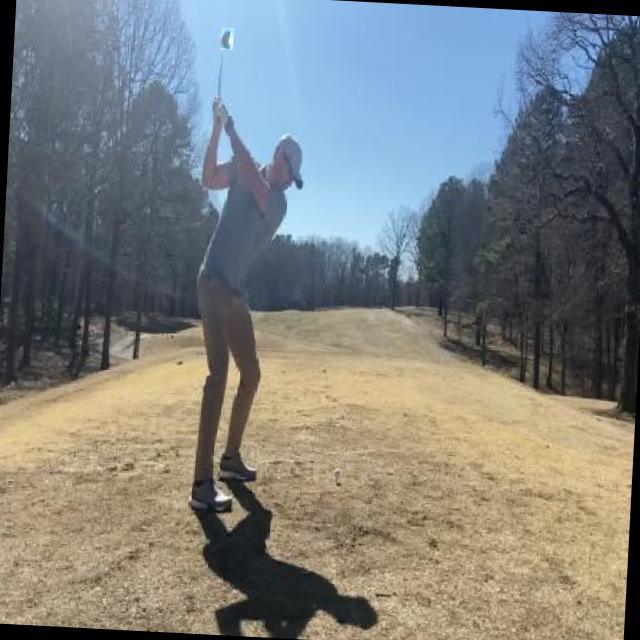club head: (221, 28, 234, 50)
